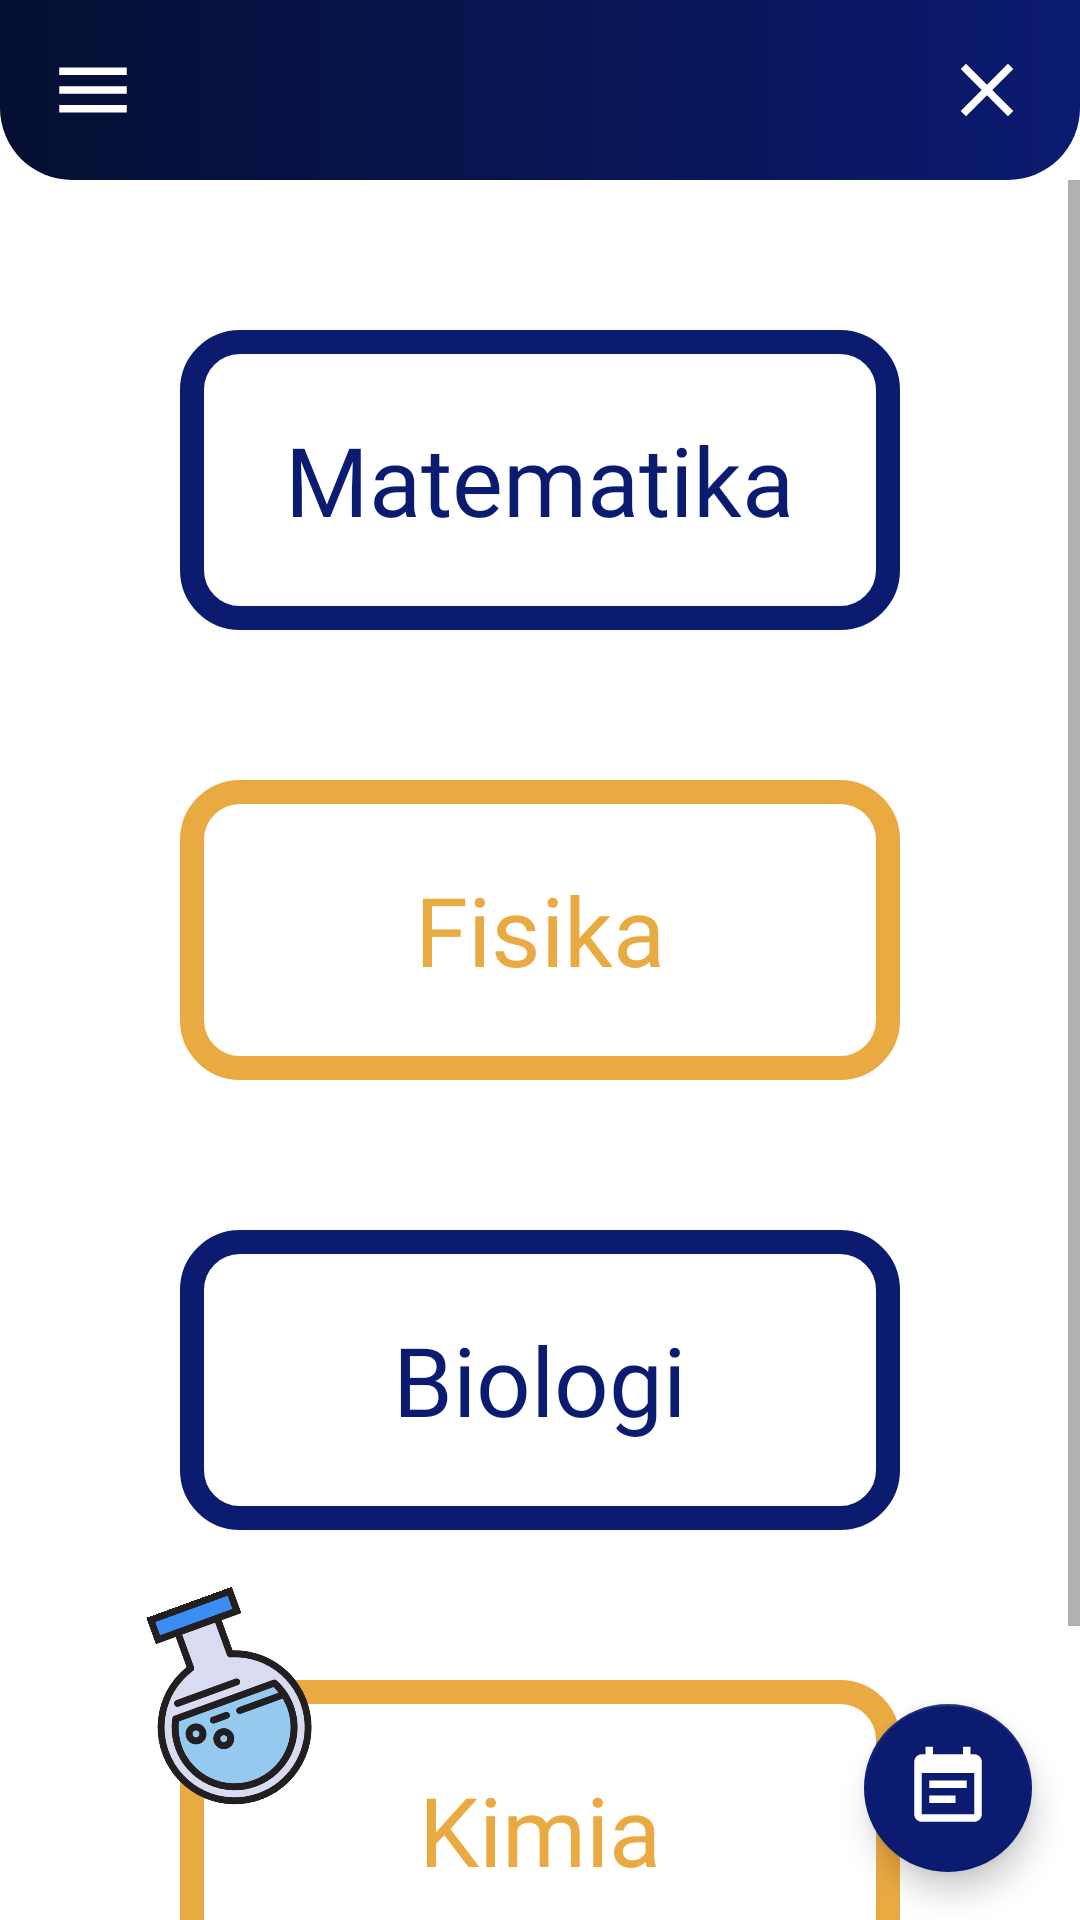

Screen size 1080×1920. Icon name, then its box in pixels as {"x1": x1, "y1": y1, "x2": x2, "y2": y2}:
close: {"x1": 961, "y1": 64, "x2": 1013, "y2": 116}
event note: {"x1": 864, "y1": 1704, "x2": 1032, "y2": 1872}
menu: {"x1": 59, "y1": 67, "x2": 127, "y2": 113}
